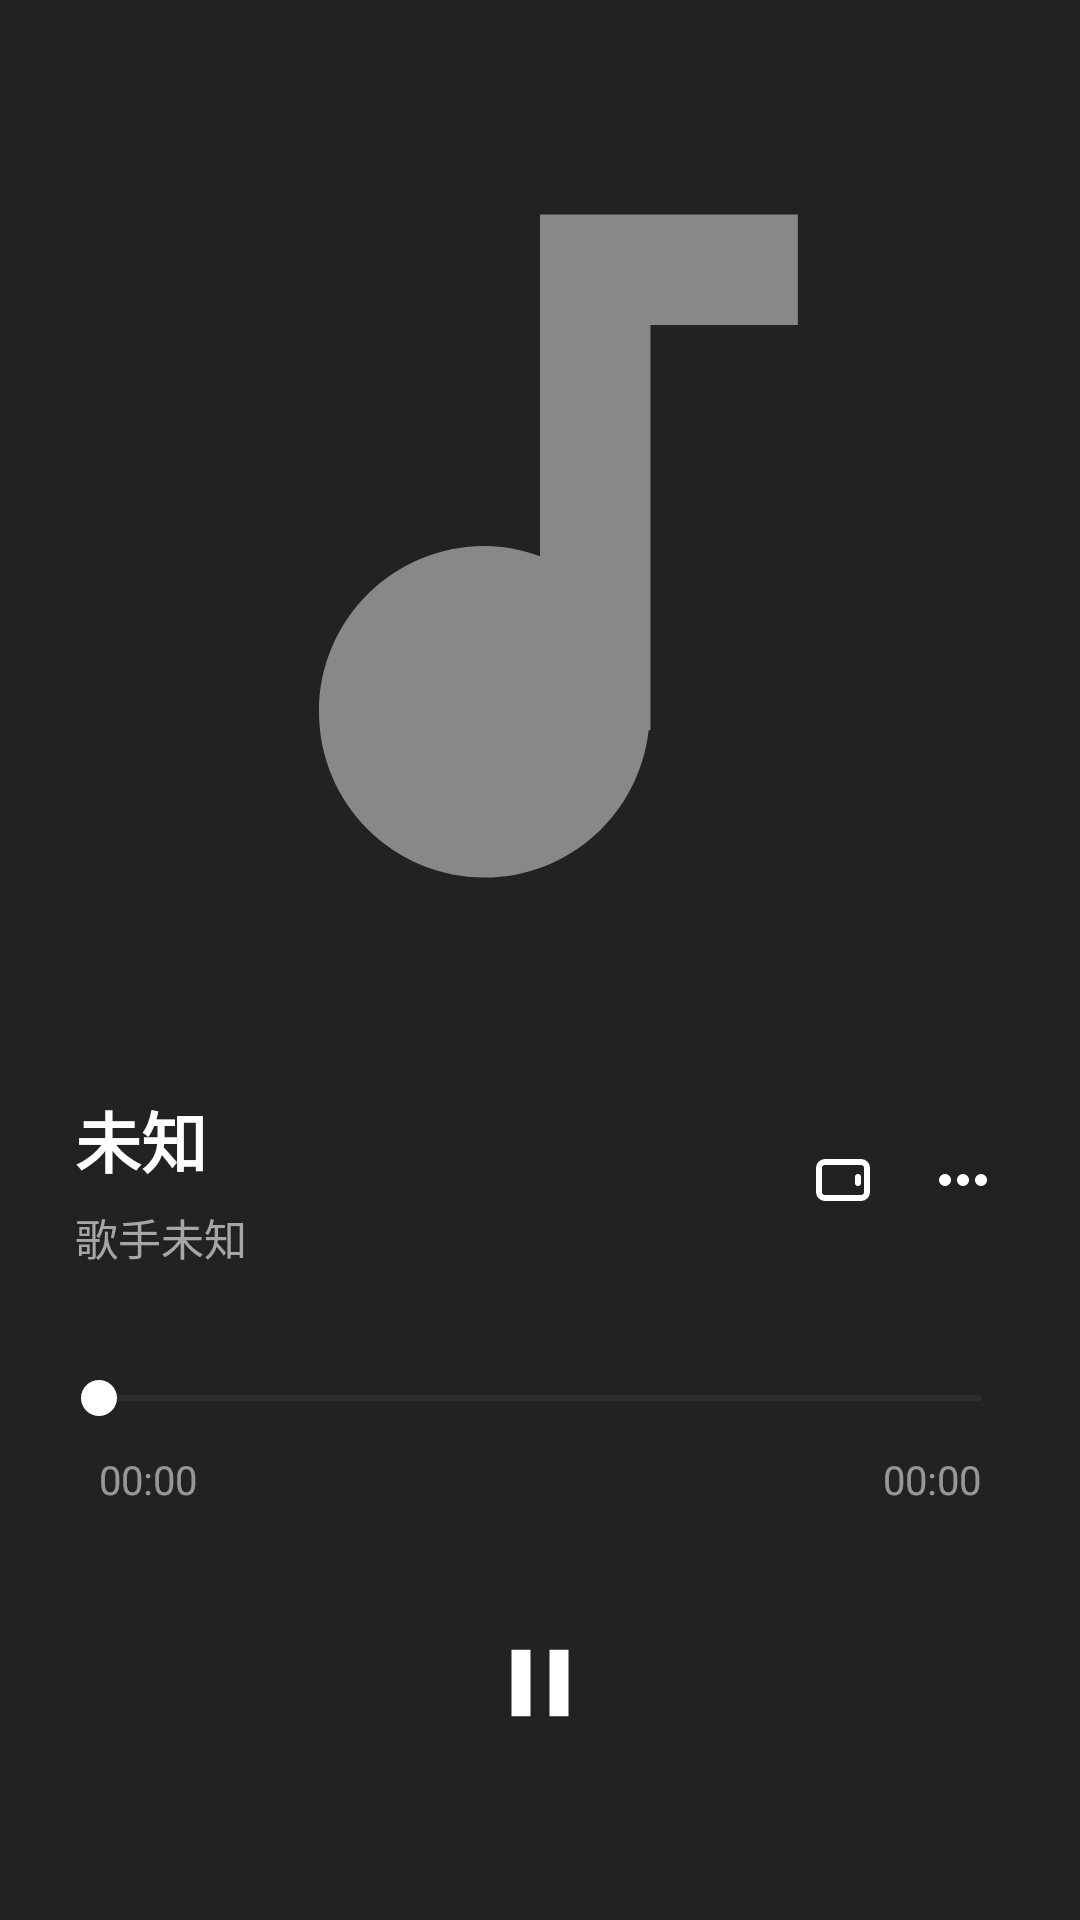

Named icons in this screenshot (1080w x 1920h) and their centers, (x=x, y=y):
pause: (x=540, y=1683)
